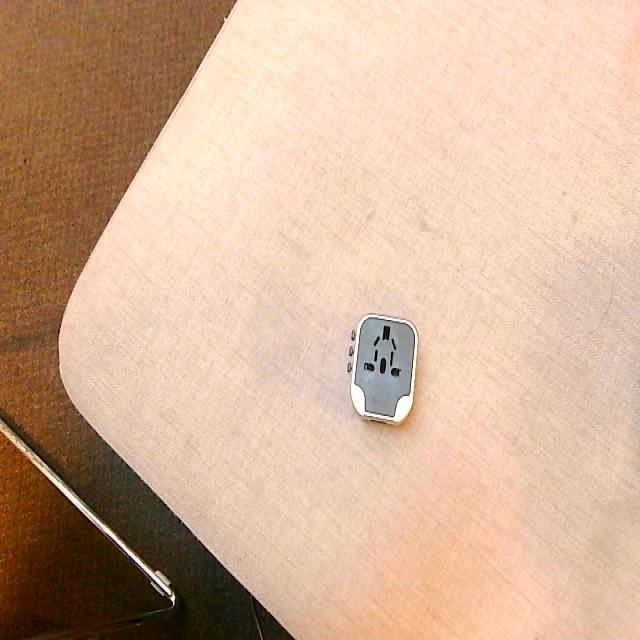adapter: (346, 312, 418, 425)
